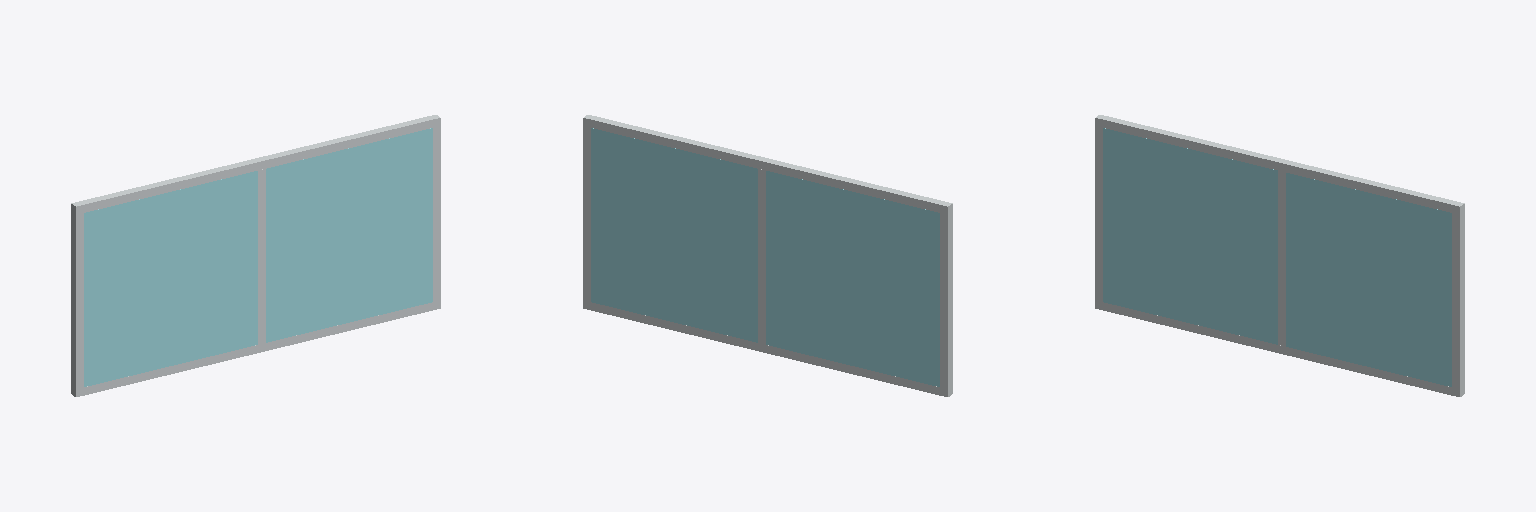
File: tinker.obj
3 renders of one model, left to right at view 1: azimuth 30°, elevation 25°; view 2: azimuth 150°, elevation 25°; view 3: azimuth 330°, elevation 25°, orthographic.
Parts seen in each view (by area): view 1: obj_0; view 2: obj_0; view 3: obj_0.
Part boxes in pixels (x1,y1,x2,y2): obj_0: (71, 115, 440, 396); obj_0: (583, 115, 952, 396); obj_0: (1095, 115, 1464, 396).
Size of the model in its own units: 46 by 23 by 1.